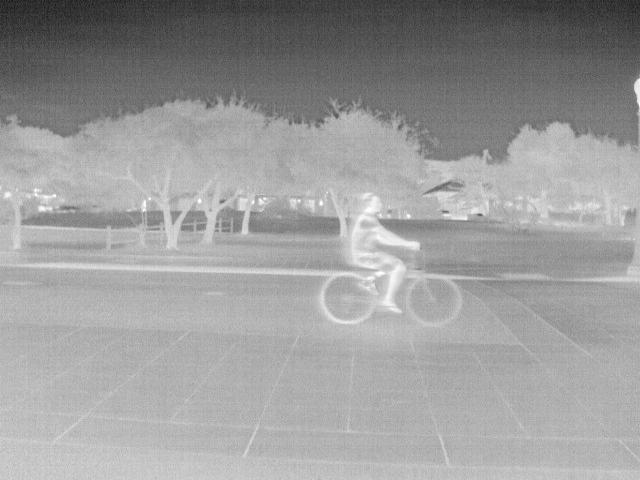person: (346, 190, 423, 316), (137, 198, 149, 214)
